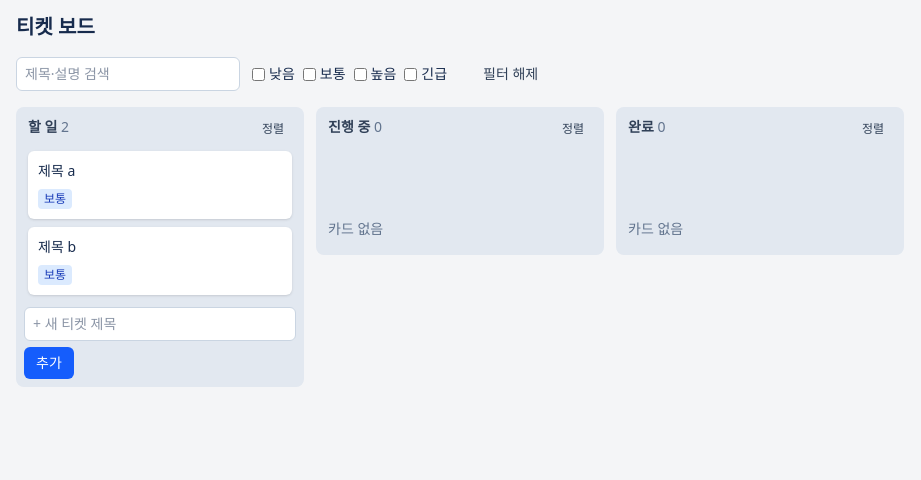
Test: 인라인 티켓 생성 (UI-C07) › TC-UI-011·045: 성공하면 새 카드가 할 일 컬럼 맨 뒤에 나타나고 입력창이 비워진다
The image size is (921, 480).
Type "새 카드" into the field labelled "새 티켓 제목".
click(160, 324); type("새 카드")  # box [24,307,296,341]
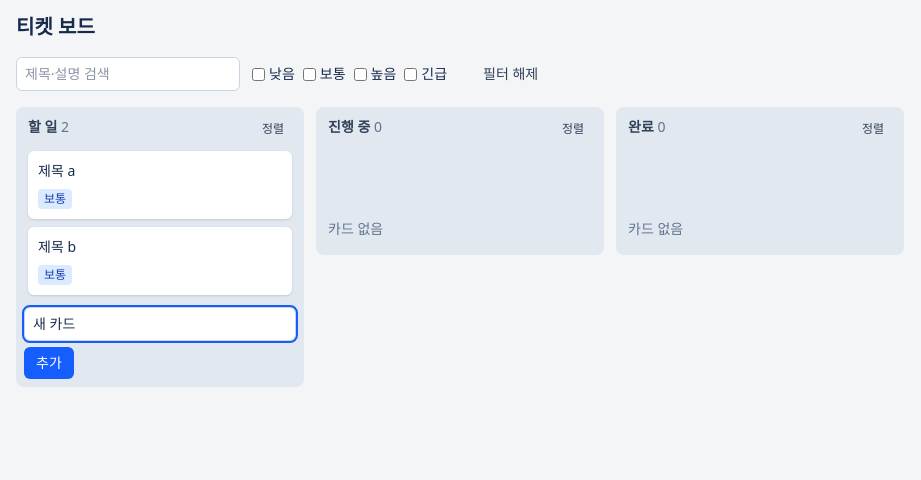
Click the button "추가".
click(49, 363)  # box [24,347,74,379]
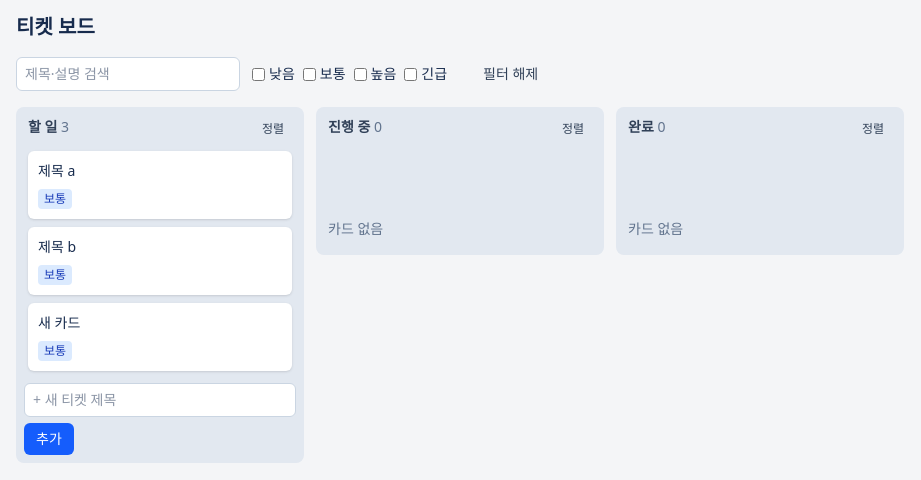
Check: the text "새 카드" is shown, box [38,313,80,333]
Check: the button "새 카드 보통" is shown, box [28,303,292,371]
Check: the field labelled "새 티켓 제목" is empty, box [24,383,296,417]
